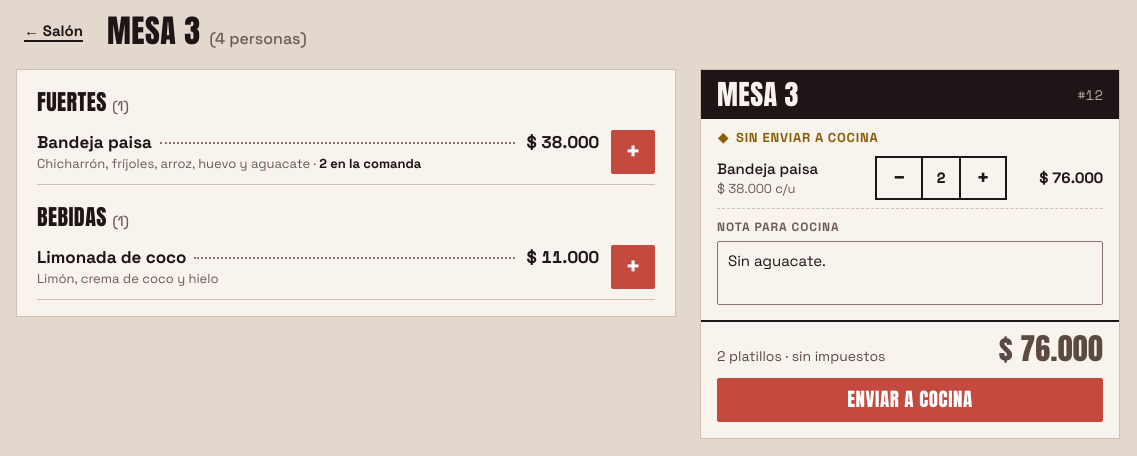
Test case: TomaPedido › agregar manda el platillo y repinta con lo que responde el servidor
Step 1. Click the button named "Agregar Bandeja paisa" → point(633, 152), box [611, 130, 655, 174]
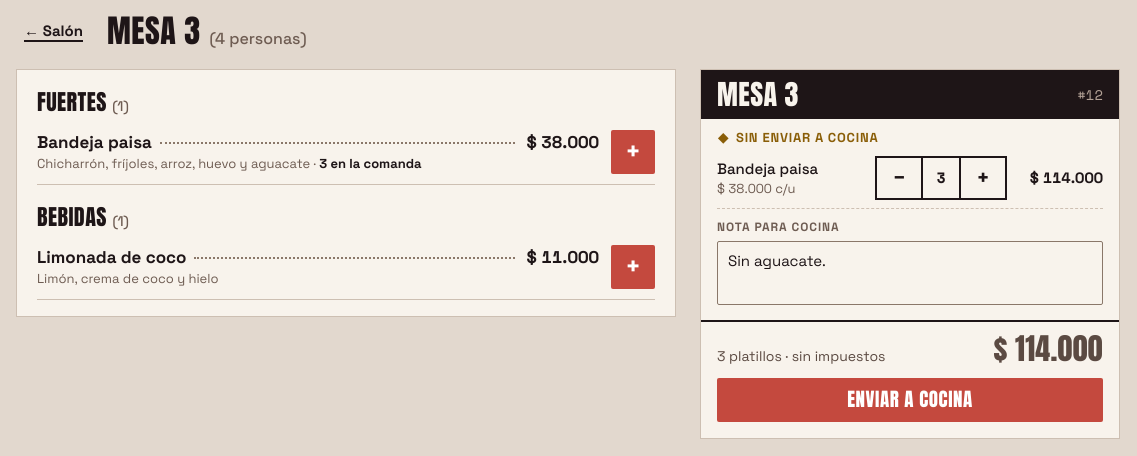
Expected: the element named "Cantidad de Bandeja paisa" shows "3", [937, 166, 946, 188]
